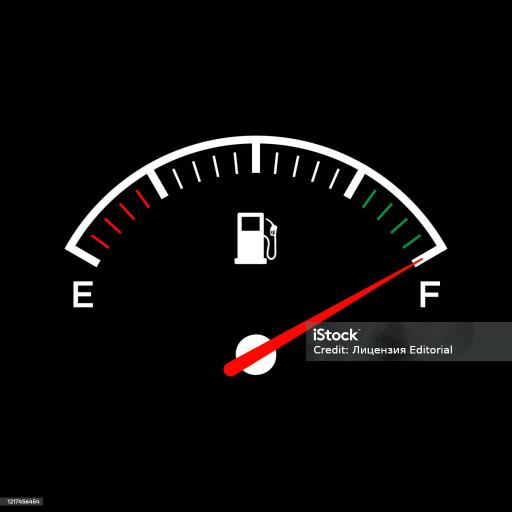empty: (69, 278, 100, 314)
fuel_icon: (230, 209, 284, 266)
full: (415, 281, 439, 310)
guage_area: (54, 124, 454, 389)
needle_center: (233, 328, 281, 380)
needle_tip: (402, 250, 426, 271)
